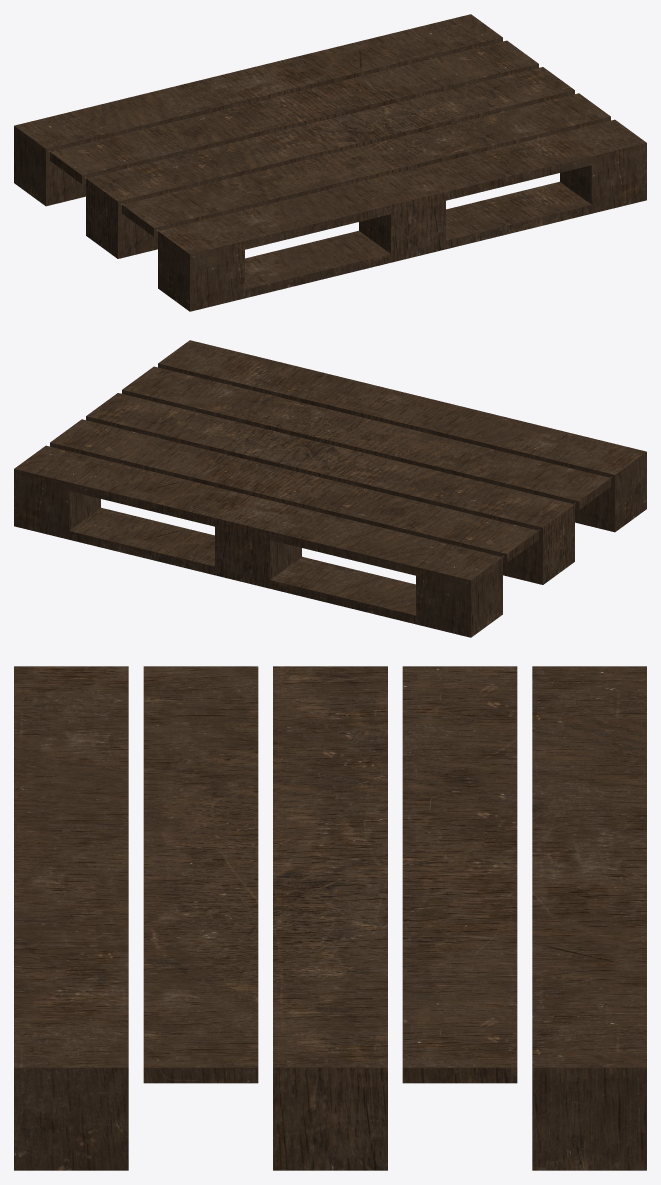
Rendered from palet.gltf.
3 views of the same model, one above another, from view 1: azimuth 30°, elevation 25°; view 2: azimuth 150°, elevation 25°; view 3: azimuth 270°, elevation 25° (orthographic). The views are drawn at different scales.
Visible parts, largest first — view 1: palet; view 2: palet; view 3: palet.
Boxes of the visible parts, box(x1,y1,x2,y2) form: palet: box(14, 14, 646, 311); palet: box(14, 340, 646, 637); palet: box(14, 666, 646, 1170).
Size of what is drawn, in the model's own units: 1.2 by 0.144 by 0.8.
Materials: 1 (1 with a texture image).
